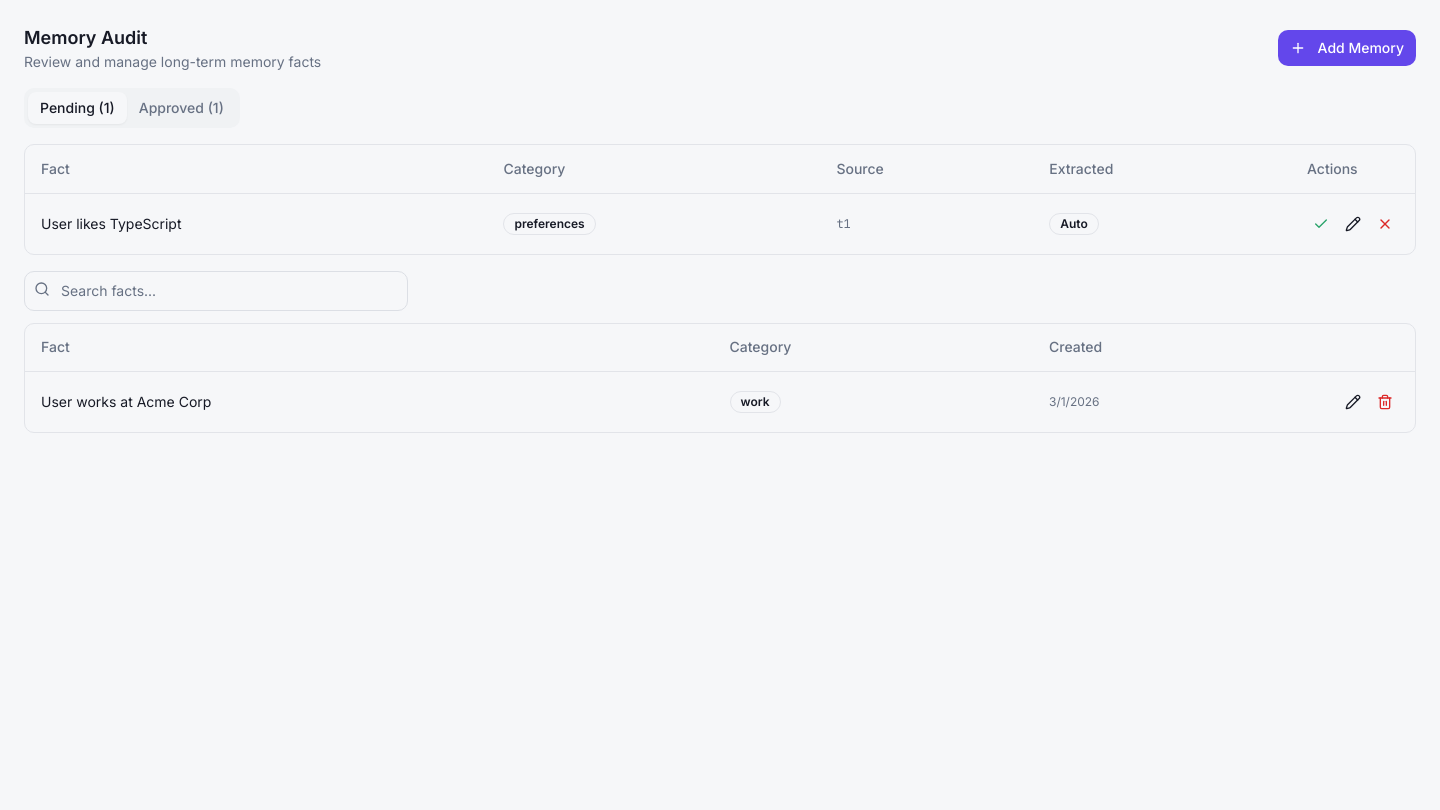
Test: UI-H5: Memory delete confirmation dialog › clicking delete on Pending tab shows confirmation dialog, not immediate delete
expect the text "User likes TypeScript" is shown: met, box [25,193,488,254]
Click the button named "Delete" in the row of "User likes TypeScript" at (1385,224), box [1371,210,1399,238]
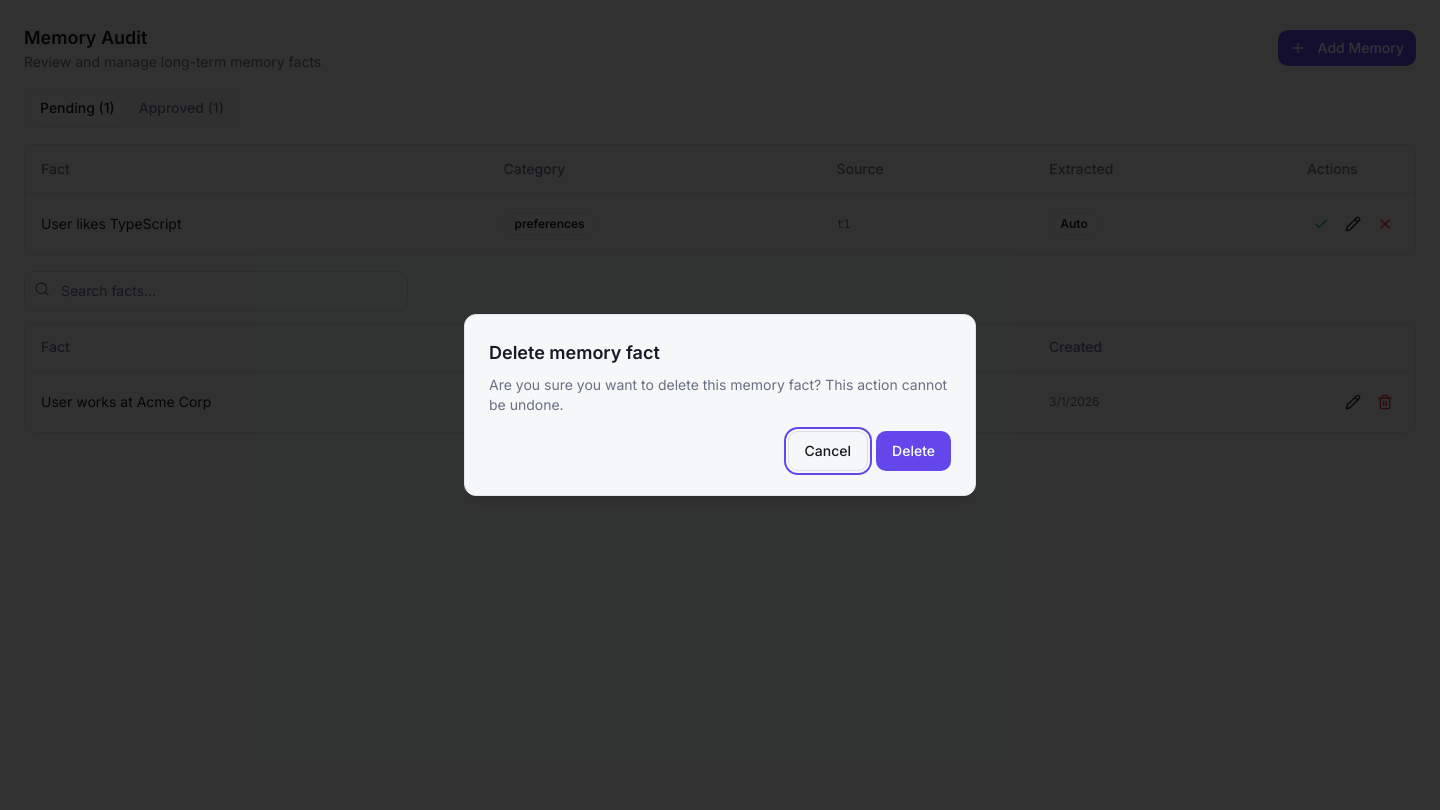
expect the dialog is shown: met, box [464,314,976,496]
